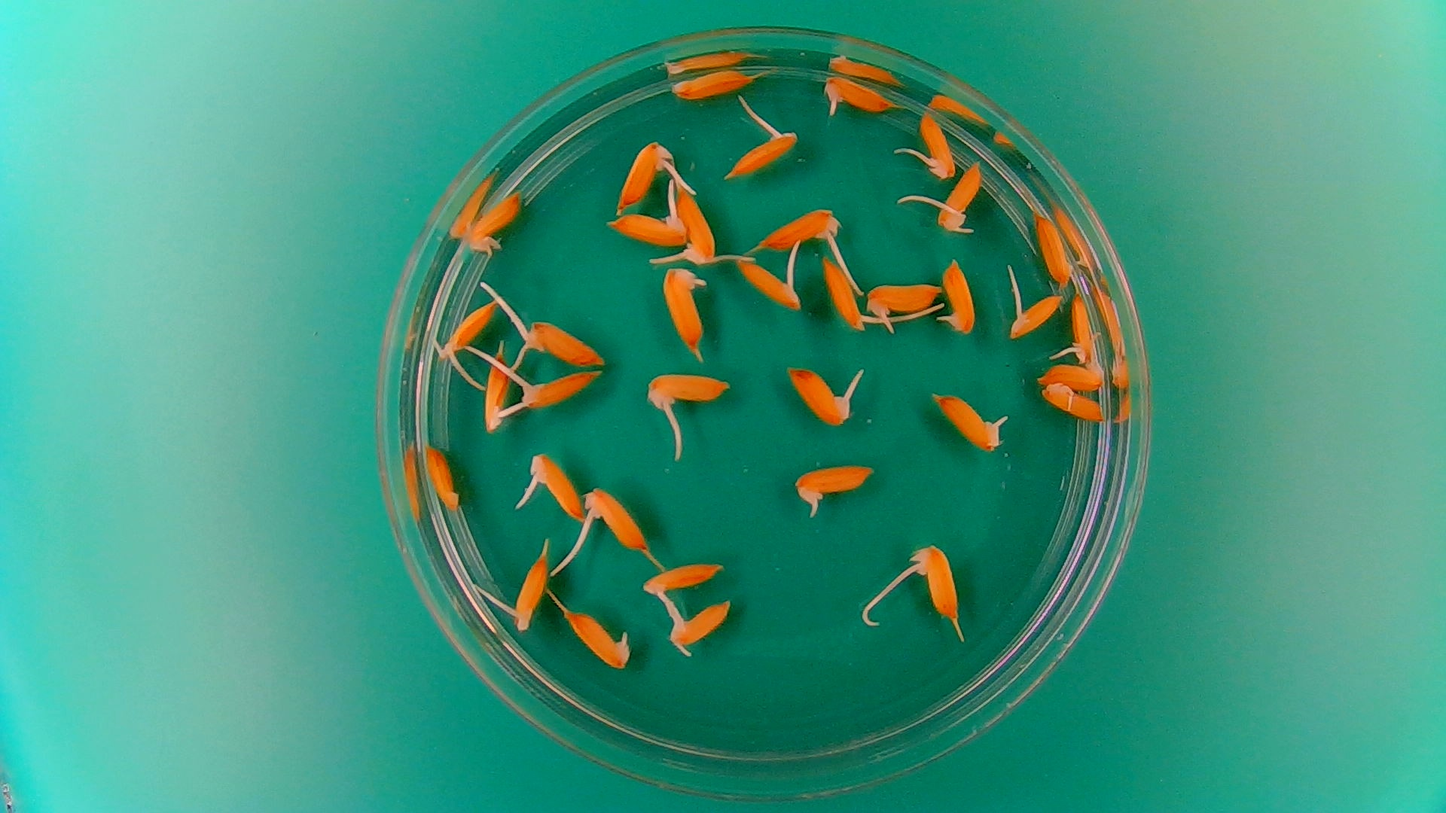no: (465, 189, 524, 254), (1033, 212, 1077, 288), (670, 66, 752, 102), (423, 443, 462, 514), (1042, 383, 1107, 419)
yes: (782, 361, 862, 428), (563, 606, 638, 671), (790, 460, 877, 516), (753, 203, 844, 253), (523, 449, 585, 522), (939, 395, 1011, 454), (657, 264, 703, 354), (734, 253, 804, 311), (514, 368, 604, 413), (666, 595, 734, 652), (615, 136, 666, 212), (522, 320, 608, 365), (587, 492, 648, 553), (915, 543, 960, 623), (434, 302, 496, 359), (676, 187, 719, 266), (935, 256, 977, 336), (822, 257, 868, 330), (819, 73, 895, 117), (729, 131, 797, 179), (607, 206, 688, 246), (1006, 285, 1064, 340), (511, 551, 551, 629), (641, 561, 725, 598), (915, 108, 957, 182), (642, 372, 727, 408), (939, 160, 981, 231), (479, 356, 514, 433), (866, 278, 940, 314), (1035, 358, 1102, 391), (1068, 288, 1097, 362)
